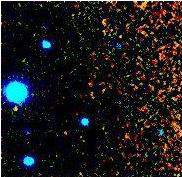star: (0, 91, 27, 121)
